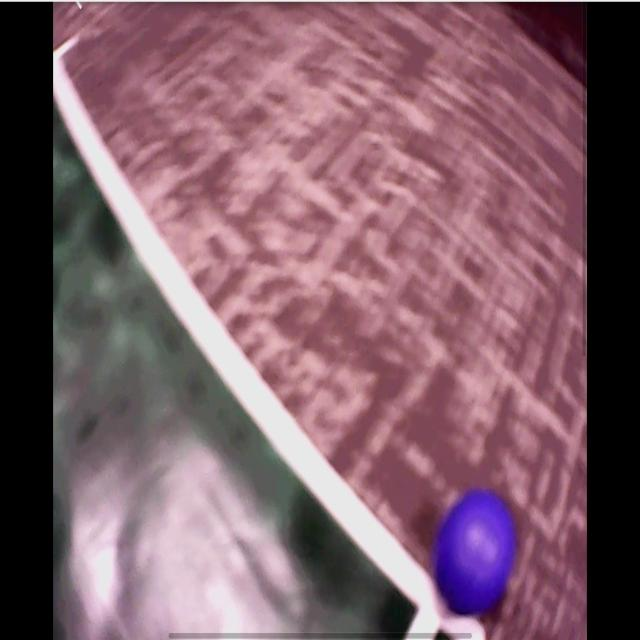ball: (435, 489, 517, 612)
